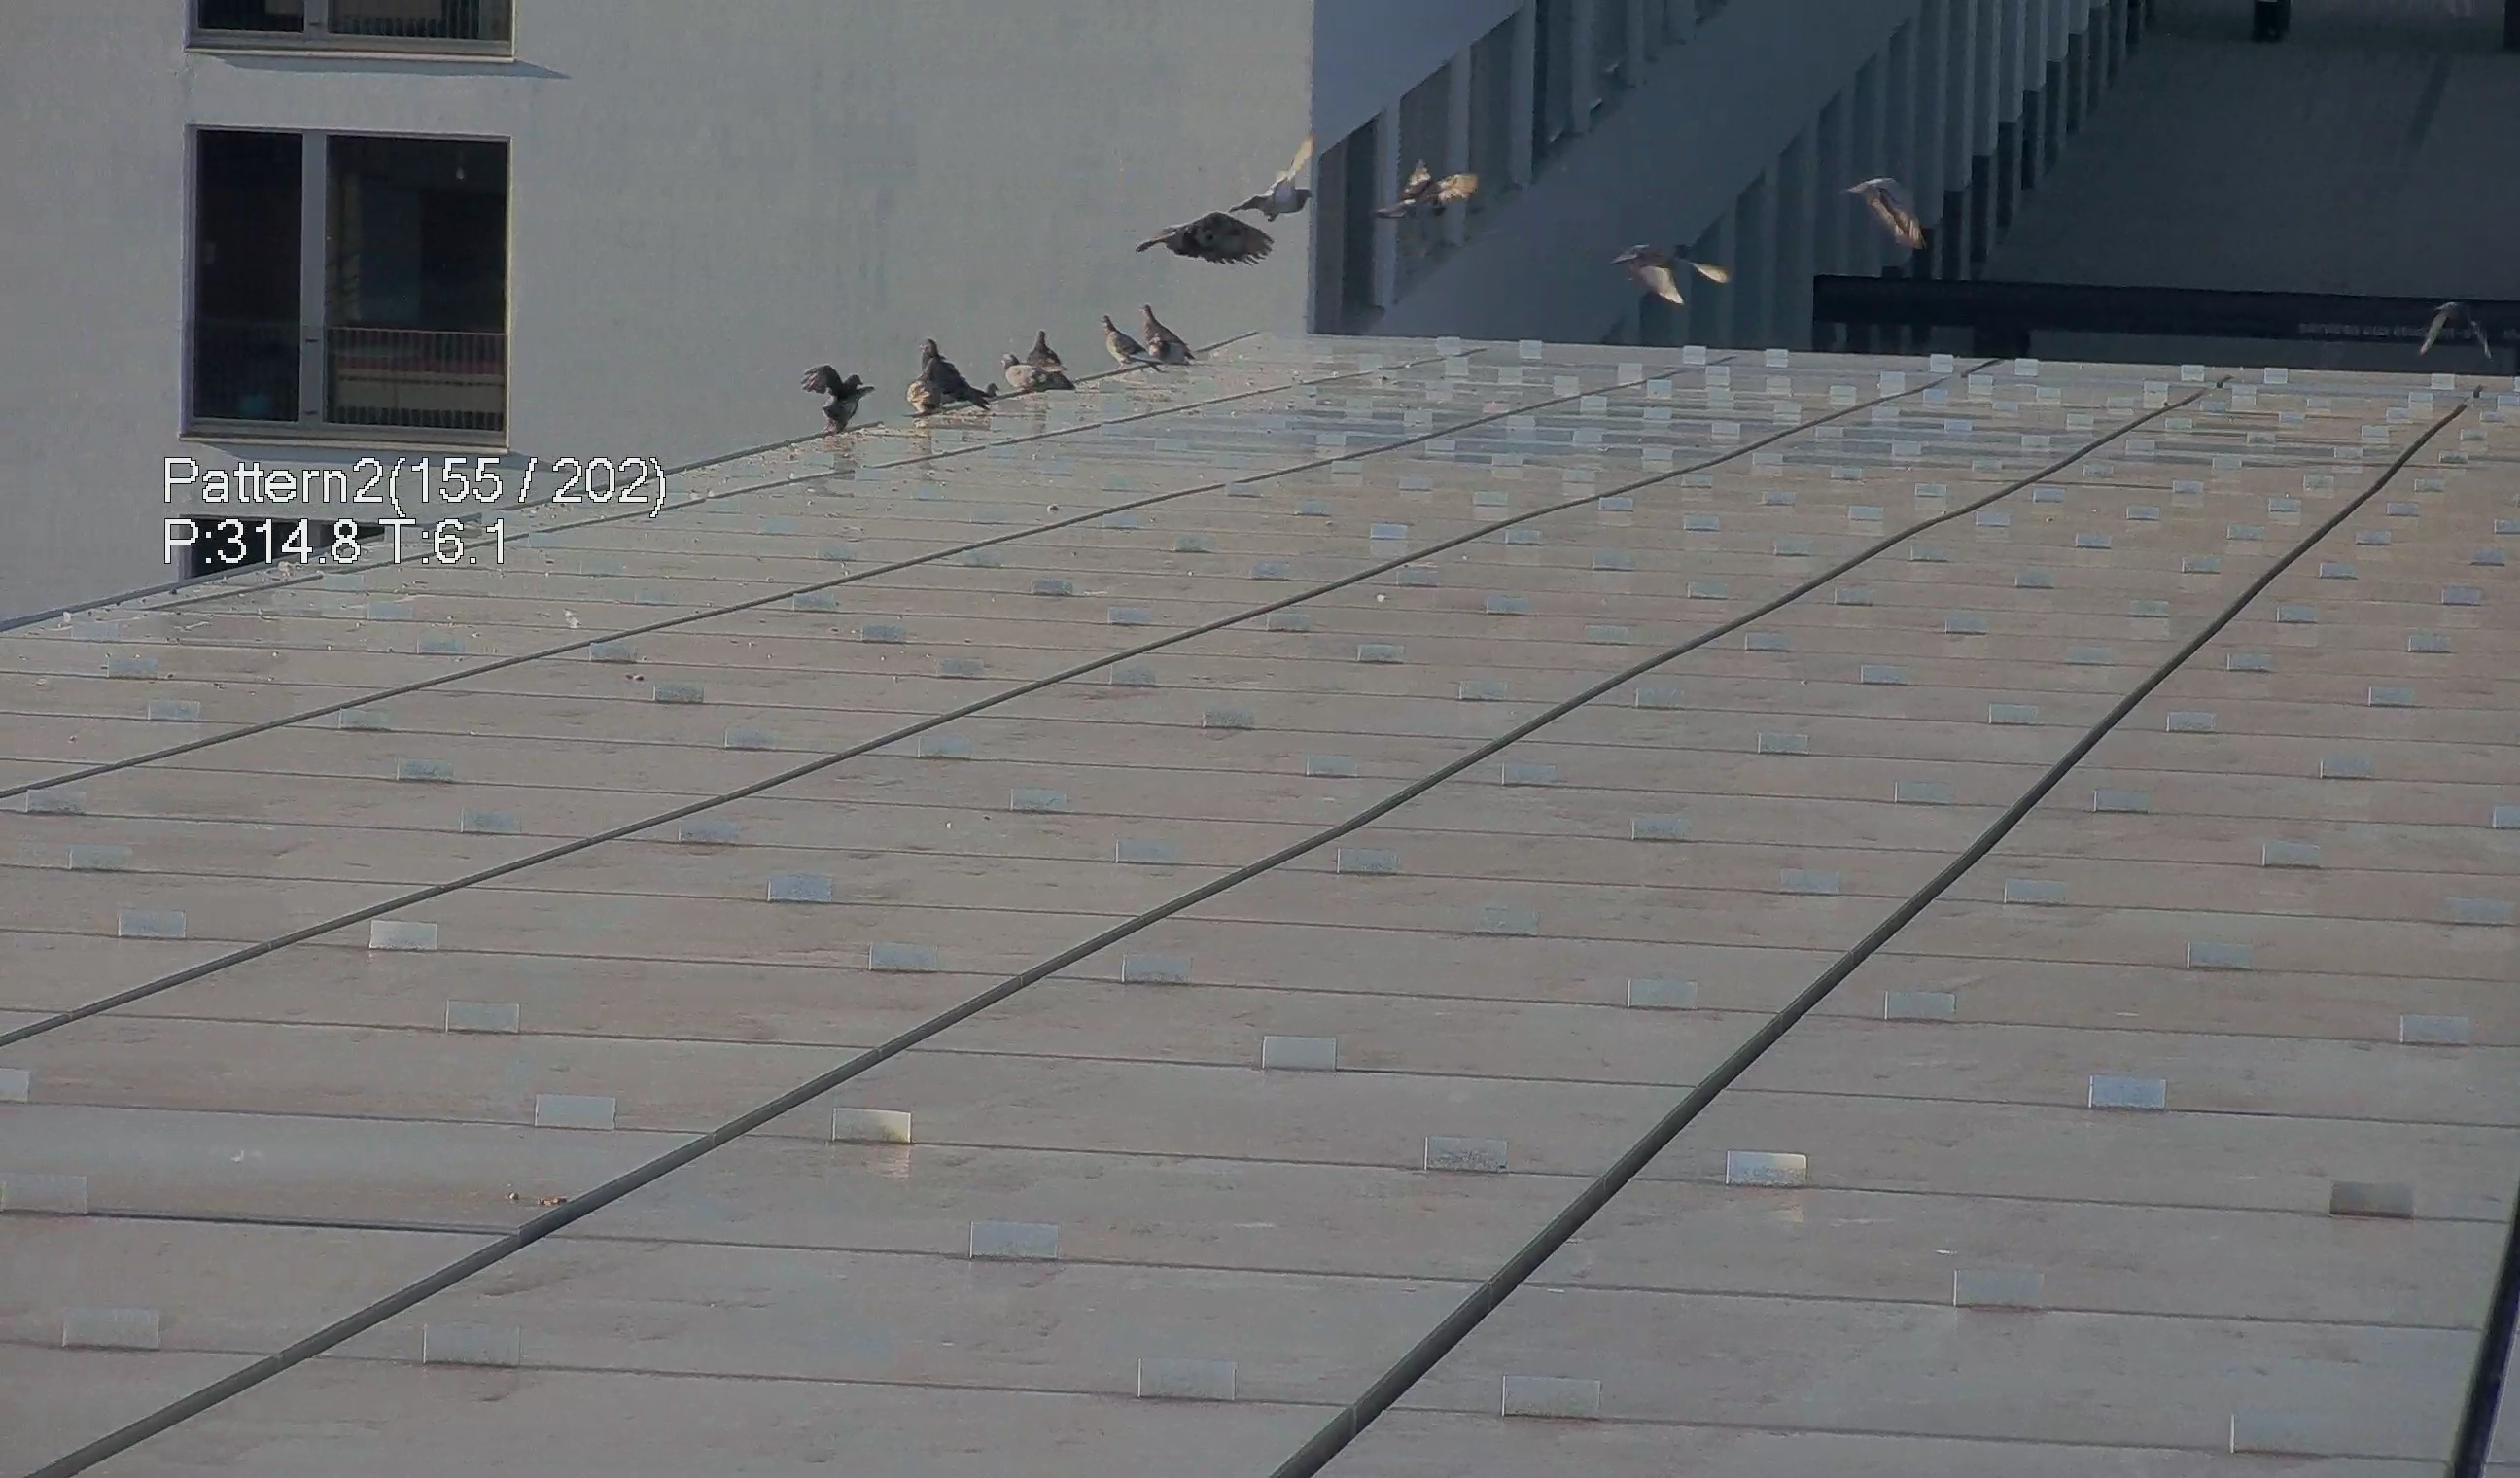Pigeon: (1606, 225, 1734, 334), (1134, 195, 1277, 269), (1368, 155, 1477, 236), (1243, 121, 1328, 223), (1854, 172, 1936, 271), (791, 347, 863, 428), (995, 350, 1076, 405), (1096, 317, 1166, 371), (897, 355, 948, 424), (1140, 303, 1192, 368), (1023, 326, 1076, 368), (914, 336, 946, 373)
